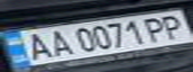0: (69, 25, 97, 53), (90, 22, 112, 51)
1: (121, 17, 148, 45)
7: (106, 20, 127, 48)
A: (18, 30, 57, 62), (42, 27, 75, 57)
P: (154, 12, 193, 39), (139, 15, 172, 43)
